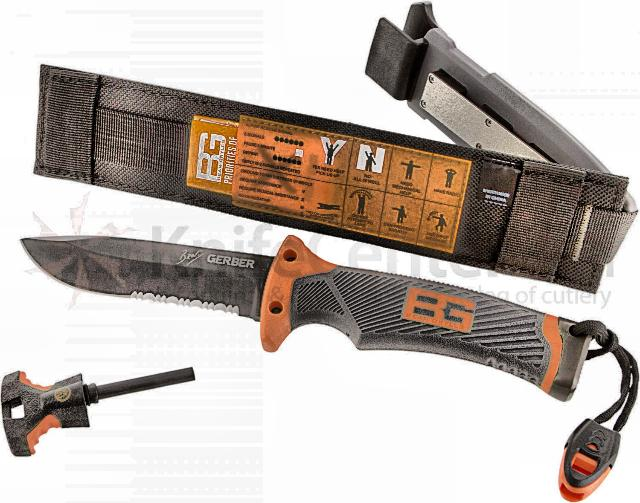knife: (16, 231, 278, 327)
